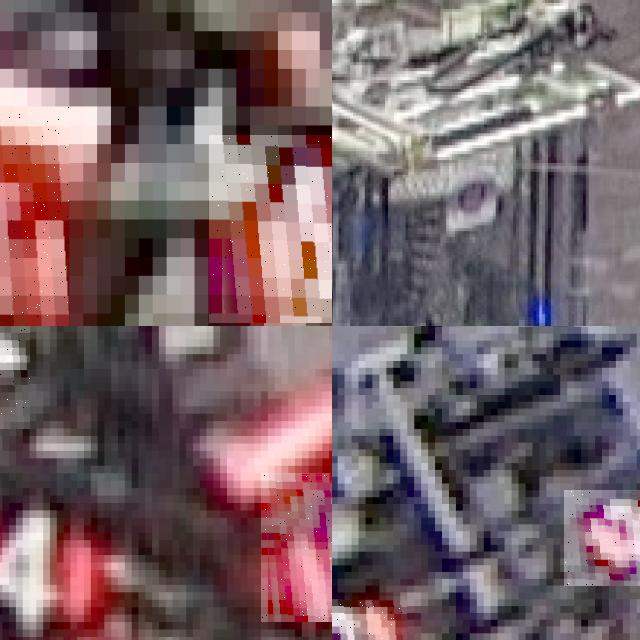R2: (564, 490, 640, 585), (332, 596, 407, 640)
R4: (0, 503, 111, 637), (261, 473, 332, 622)
R5: (208, 135, 332, 323), (0, 106, 69, 326)
